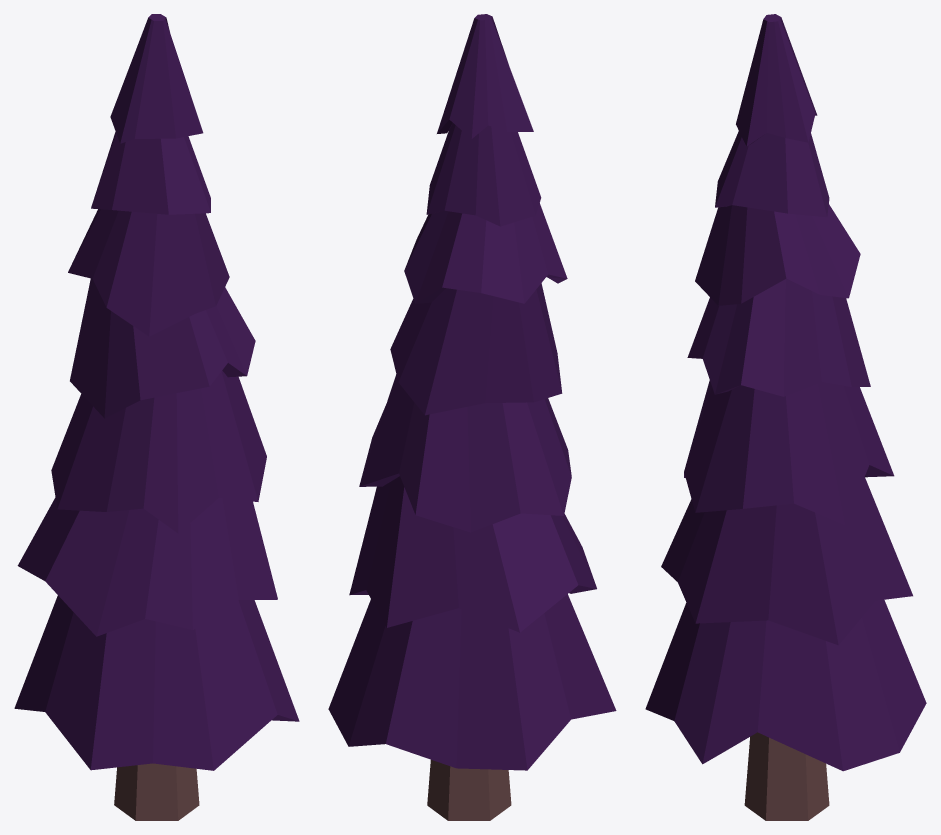
Rendered from pinetree3.fbx.
3 renders of one model, left to right at view 1: azimuth 30°, elevation 25°; view 2: azimuth 150°, elevation 25°; view 3: azimuth 270°, elevation 25°, orthographic.
Parts seen in each view (by area): view 1: Cylinder.012, Cylinder.013, Cylinder.014, Cylinder.015, Cylinder.016, Cylinder.018, Cylinder.019, pinetree1.001; view 2: Cylinder.012, Cylinder.013, Cylinder.014, Cylinder.015, Cylinder.016, Cylinder.018, Cylinder.019, pinetree1.001; view 3: Cylinder.012, Cylinder.013, Cylinder.014, Cylinder.015, Cylinder.016, Cylinder.018, Cylinder.019, pinetree1.001.
Boxes of the visible parts, box(x1,y1,x2,y2) form: Cylinder.012: box(14, 595, 299, 770); Cylinder.013: box(17, 497, 277, 636); Cylinder.014: box(51, 370, 266, 533); Cylinder.015: box(70, 278, 255, 418); Cylinder.016: box(68, 209, 229, 336); Cylinder.018: box(91, 132, 210, 214); Cylinder.019: box(110, 14, 203, 143); pinetree1.001: box(114, 763, 199, 820); Cylinder.012: box(328, 594, 616, 770); Cylinder.013: box(349, 476, 596, 632); Cylinder.014: box(359, 374, 571, 532); Cylinder.015: box(390, 283, 562, 415); Cylinder.016: box(404, 203, 567, 303); Cylinder.018: box(426, 123, 541, 226); Cylinder.019: box(437, 14, 533, 138); pinetree1.001: box(427, 760, 511, 820); Cylinder.012: box(645, 600, 926, 771); Cylinder.013: box(661, 477, 912, 645); Cylinder.014: box(684, 380, 894, 524); Cylinder.015: box(687, 278, 870, 396); Cylinder.016: box(695, 204, 860, 305); Cylinder.018: box(715, 131, 829, 217); Cylinder.019: box(736, 14, 817, 146); pinetree1.001: box(744, 732, 829, 820).
Size of the model in its own units: 394 by 1327 by 431.
